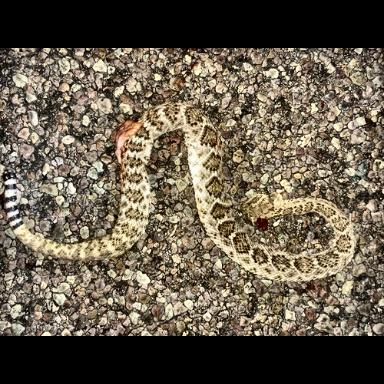snake: (0, 97, 368, 292)
